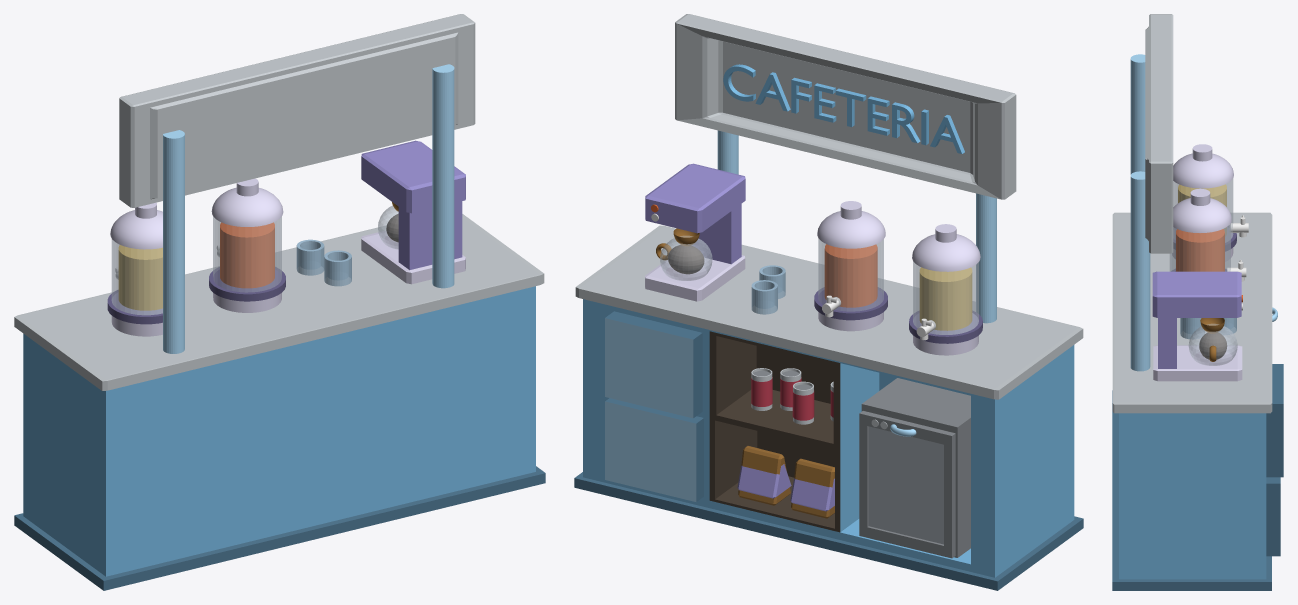
File: Cafeteria_Station.ul.fbx
3 views of the same model, side by side, from view 1: azimuth 30°, elevation 25°; view 2: azimuth 150°, elevation 25°; view 3: azimuth 270°, elevation 25° (orthographic). The views are drawn at different scales.
Parts seen in each view (by area): view 1: Bord, Plane, Bordplade, Bordplade.001, Cylinder.001, Cylinder, Juice.001, Coffee.001, Juice.010, Juice.008, Juice.017, CoffeeMaker (+9 smaller); view 2: Bord, Plane, Bordplade, OvenDoor, Bordplade.001, Oven, Coffee.001, Text, Juice.010, Juice.001, Juice.008, Juice.017 (+17 smaller); view 3: Bord, Bordplade, Plane, Coffee.001, Cylinder.001, Bordplade.001, Coffee, Juice.001, Juice.008, Cylinder, KaffeKande.003, KaffeKande.002 (+9 smaller).
Part boxes in pixels (left/top/right/bottom): Bord: left=23, top=286, right=535, bottom=576; Plane: left=119, top=14, right=475, bottom=207; Bordplade: left=14, top=214, right=544, bottom=390; Bordplade.001: left=14, top=466, right=545, bottom=590; Cylinder.001: left=432, top=64, right=454, bottom=288; Cylinder: left=163, top=130, right=184, bottom=353; Juice.001: left=213, top=216, right=281, bottom=292; Coffee.001: left=361, top=140, right=465, bottom=213; Juice.010: left=111, top=239, right=162, bottom=315; Juice.008: left=220, top=222, right=274, bottom=288; Juice.017: left=118, top=245, right=162, bottom=310; CoffeeMaker: left=398, top=201, right=462, bottom=270; Bord: left=583, top=299, right=1074, bottom=577; Plane: left=675, top=14, right=1016, bottom=199; Bordplade: left=575, top=225, right=1083, bottom=399; OvenDoor: left=859, top=411, right=955, bottom=558; Bordplade.001: left=574, top=472, right=1083, bottom=590; Oven: left=861, top=378, right=970, bottom=557; Coffee.001: left=645, top=163, right=745, bottom=233; Text: left=723, top=64, right=964, bottom=153; Juice.010: left=913, top=261, right=978, bottom=334; Juice.001: left=818, top=238, right=883, bottom=311; Juice.008: left=824, top=244, right=877, bottom=307; Juice.017: left=919, top=267, right=972, bottom=330; Bord: left=1119, top=364, right=1283, bottom=579; Bordplade: left=1112, top=212, right=1272, bottom=413; Plane: left=1145, top=14, right=1173, bottom=253; Coffee.001: left=1152, top=271, right=1241, bottom=317; Cylinder.001: left=1130, top=171, right=1150, bottom=371; Bordplade.001: left=1112, top=390, right=1271, bottom=590; Coffee: left=1153, top=345, right=1242, bottom=381; Juice.001: left=1169, top=223, right=1230, bottom=271; Juice.008: left=1176, top=229, right=1224, bottom=271; Cylinder: left=1130, top=54, right=1145, bottom=174; KaffeKande.003: left=1173, top=153, right=1233, bottom=188; KaffeKande.002: left=1173, top=198, right=1231, bottom=232.
Bounding box in the file's own units: 370 × 366 × 140.
